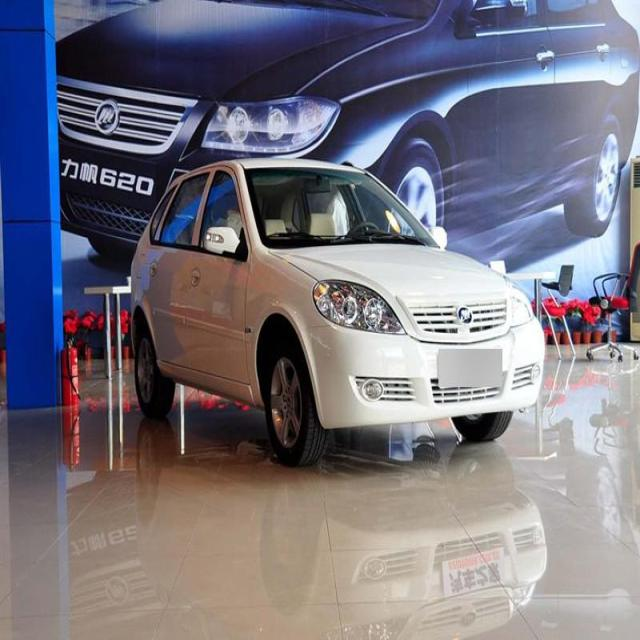door: (150, 172, 210, 376)
front_bumper: (299, 316, 546, 427)
front_glass: (246, 164, 434, 246)
front_left_side_light: (506, 289, 535, 332)
front_right_side_door: (180, 159, 255, 392)
front_right_side_light: (310, 275, 406, 340)
front_right_side_mirror: (203, 223, 241, 266)
wheel: (262, 343, 320, 463), (135, 327, 172, 418)
